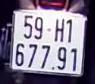1: (71, 46, 78, 72), (67, 18, 73, 43)
5: (23, 13, 33, 40)
6: (13, 42, 25, 68)
7: (27, 42, 38, 69), (40, 43, 51, 70)
9: (34, 16, 44, 41), (57, 47, 67, 71)
H: (54, 17, 64, 44)
